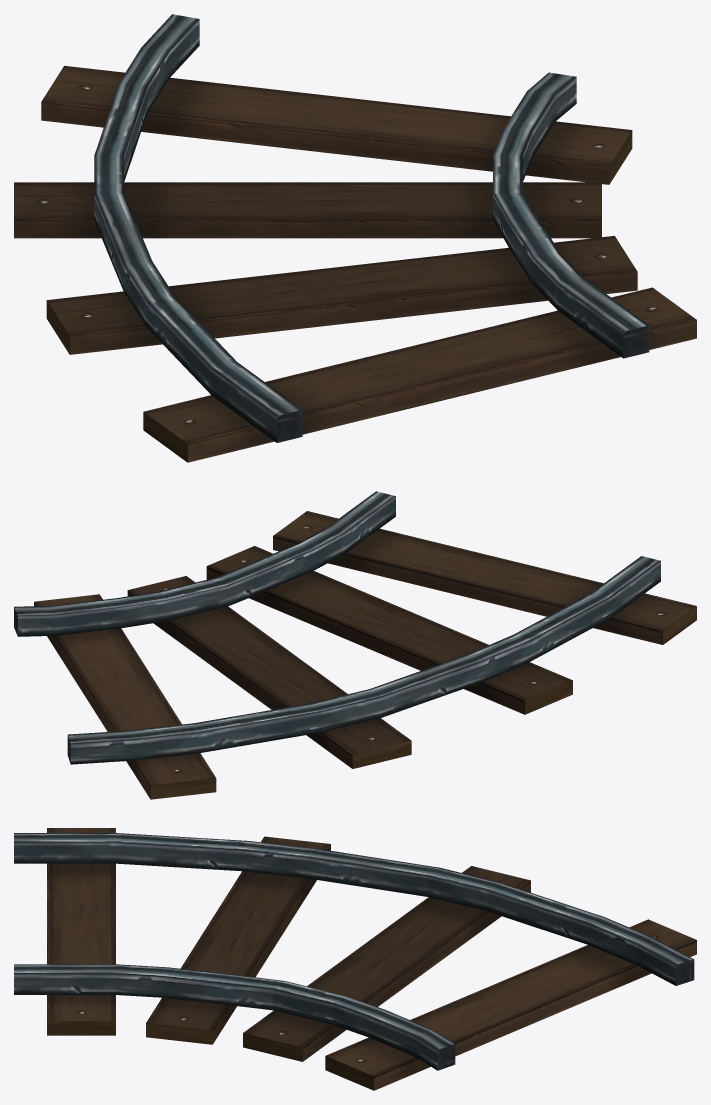
File: rail12.FBX
3 renders of one model, top to bottom at view 1: azimuth 30°, elevation 25°; view 2: azimuth 150°, elevation 25°; view 3: azimuth 270°, elevation 25°, orthographic. The views are drawn at different scales.
Visible parts, largest first — view 1: rail12; view 2: rail12; view 3: rail12.
Part boxes in pixels (<box>): rail12: <box>14,14,696,462</box>; rail12: <box>14,491,696,799</box>; rail12: <box>14,828,696,1090</box>.
Size of the model in its own units: 153 by 10.19 by 178.
